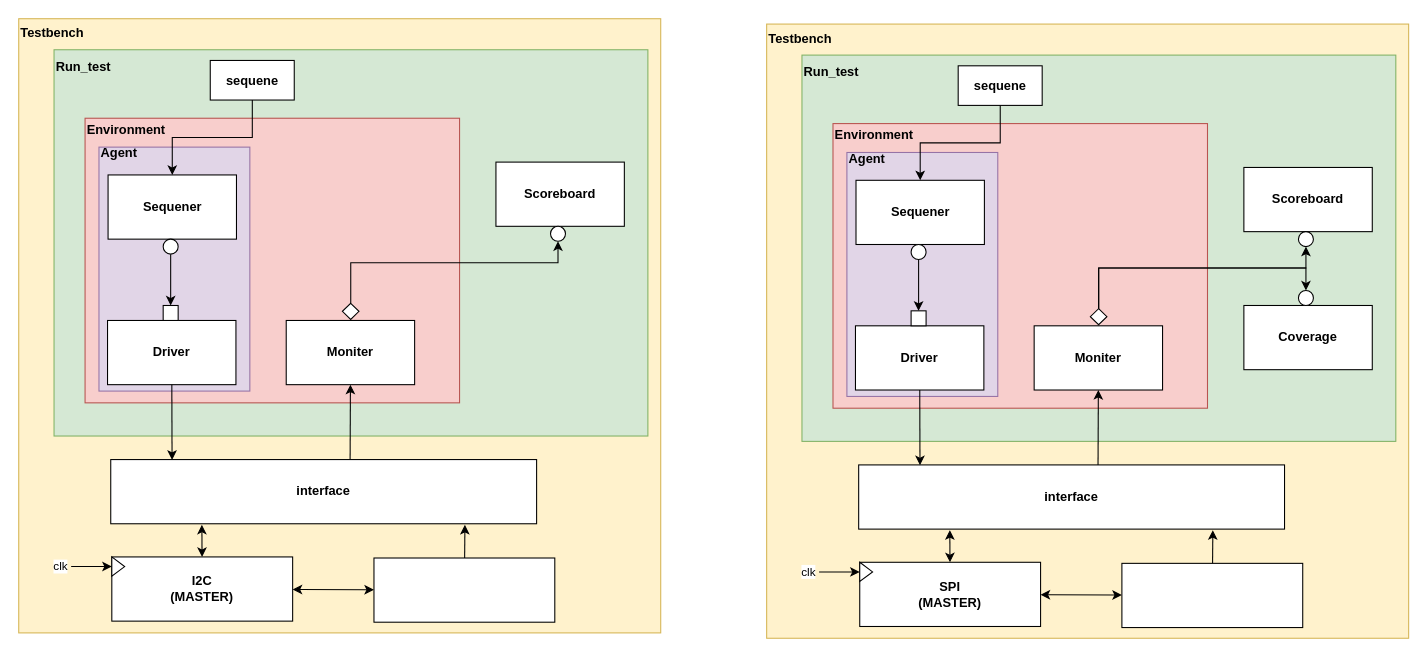
Some shapes in this 1427 by 657 pixel diagram are drawn without their labels. Here are the shapes that lost their labels. From the top down, the centre of each, then its label:
(x=464, y=589): I2C (SLAVE)
(x=1212, y=595): SPI (SLAVE)
